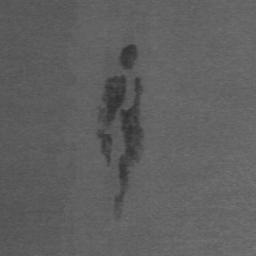Iron scale compression: (98, 75, 144, 216), (120, 45, 138, 69)
